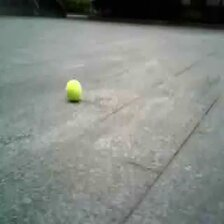tennis: (66, 80, 81, 99)
